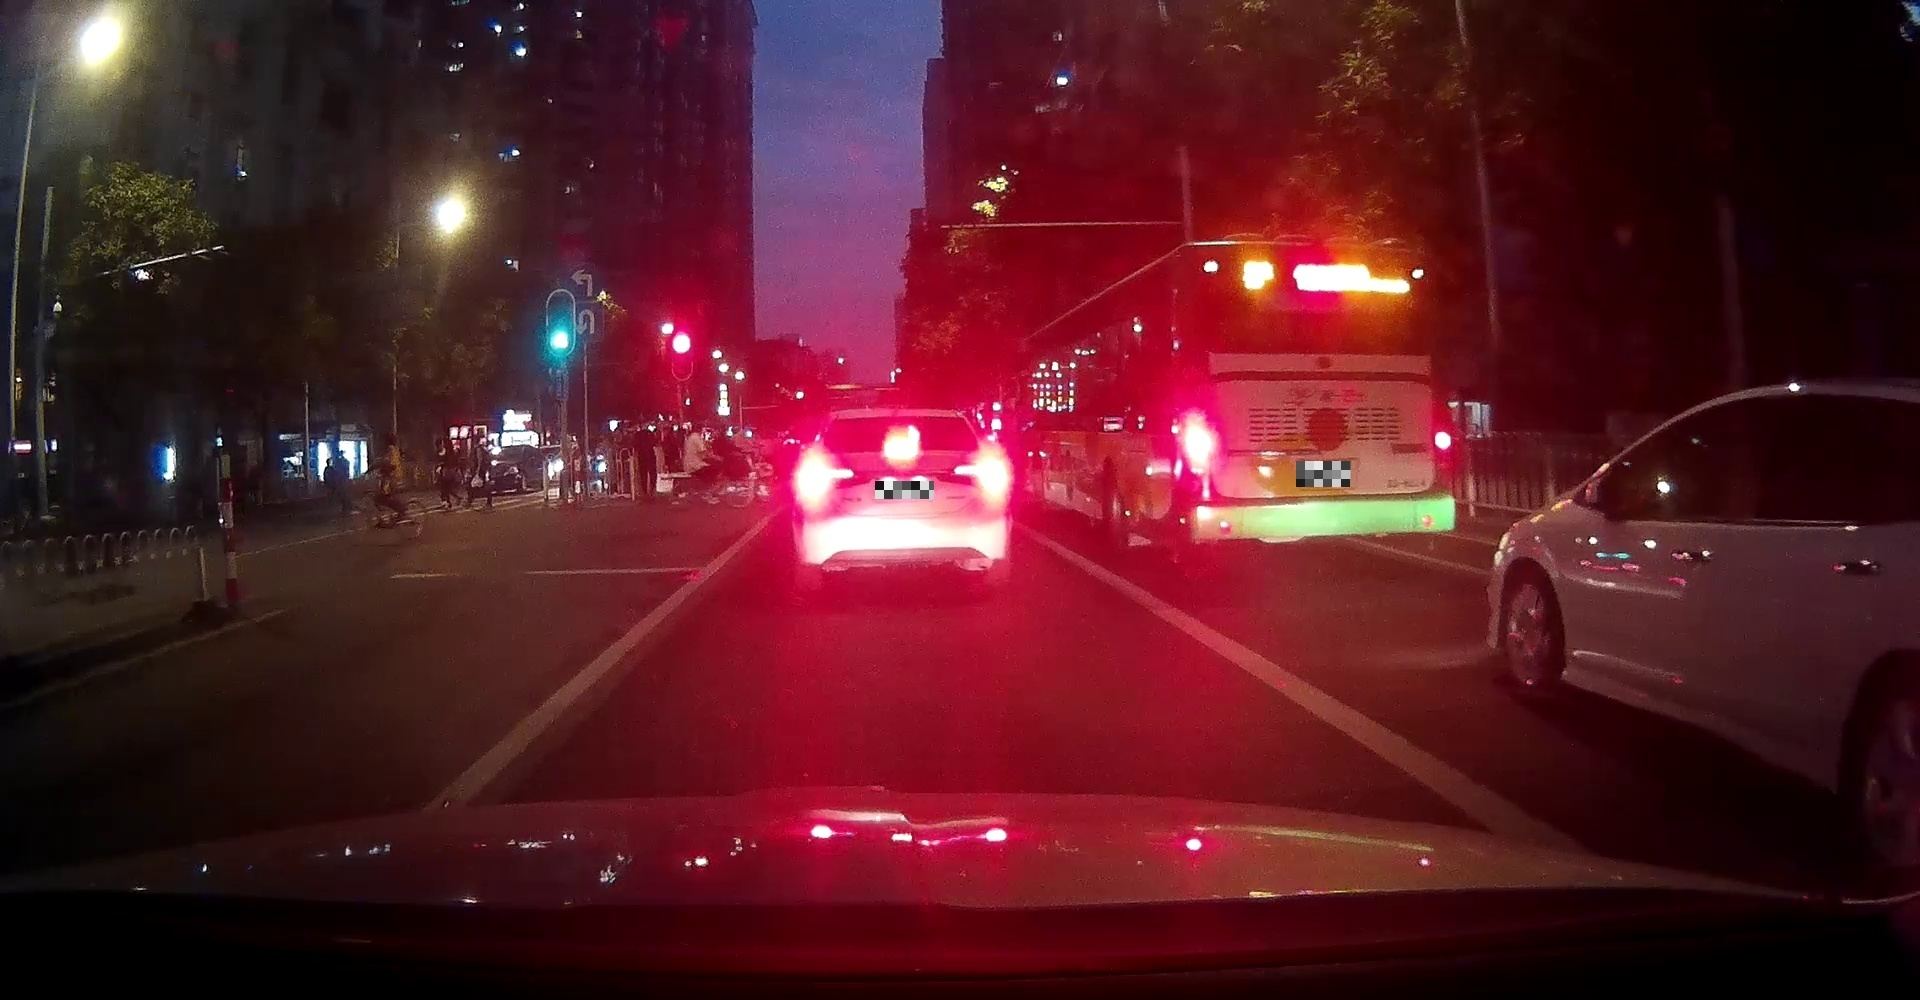L_light: (796, 466, 855, 491), (1181, 428, 1213, 456)
R_light: (954, 458, 1003, 484), (1434, 431, 1451, 448)
T_light: (883, 438, 917, 456), (1305, 253, 1336, 261)
night-brake: (795, 410, 1006, 590)
night-right: (1182, 242, 1453, 574)
plate_1: (875, 481, 935, 499)
plate_2: (1297, 461, 1351, 487)
